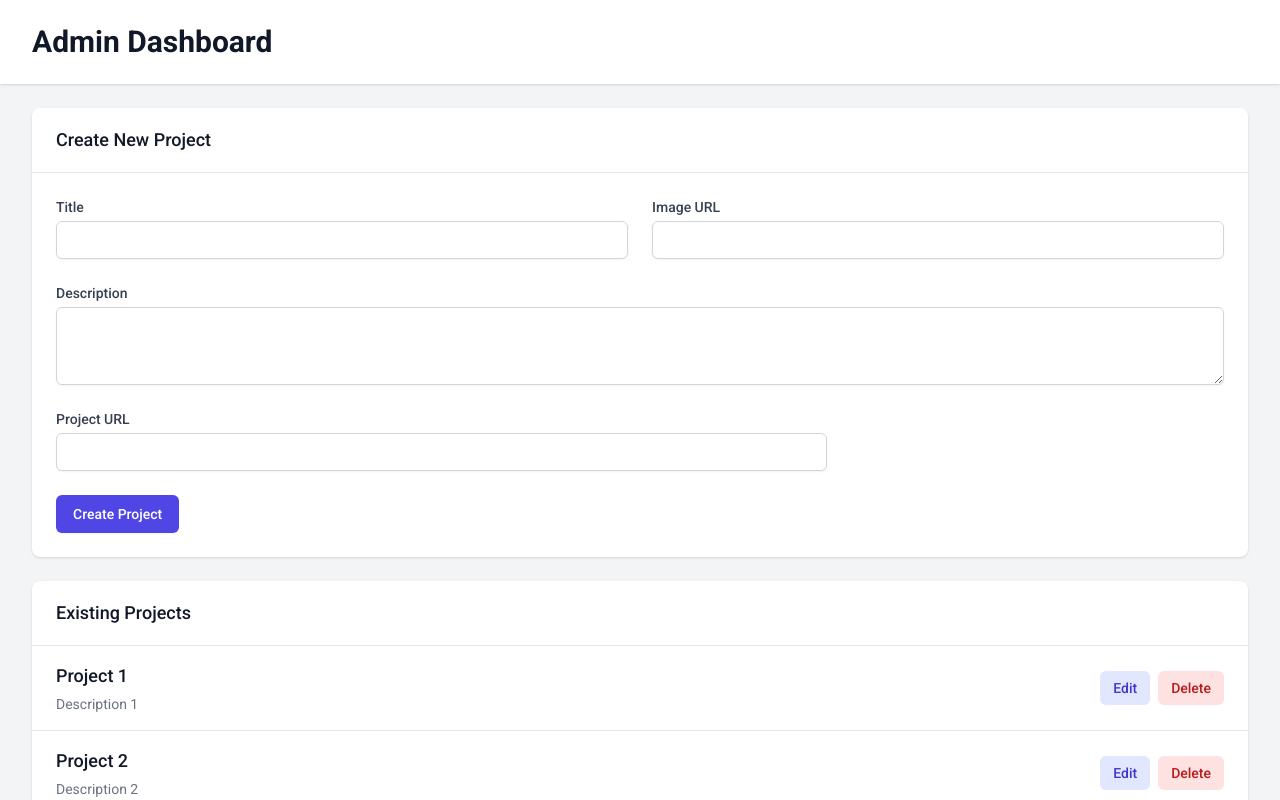
AdminDashboard › deletes a project
Expected: the heading "Project 1" is shown, [56,662,138,690]
Click the button "Delete" in the row of "Description 1": (1191,688) [1158,671,1224,705]
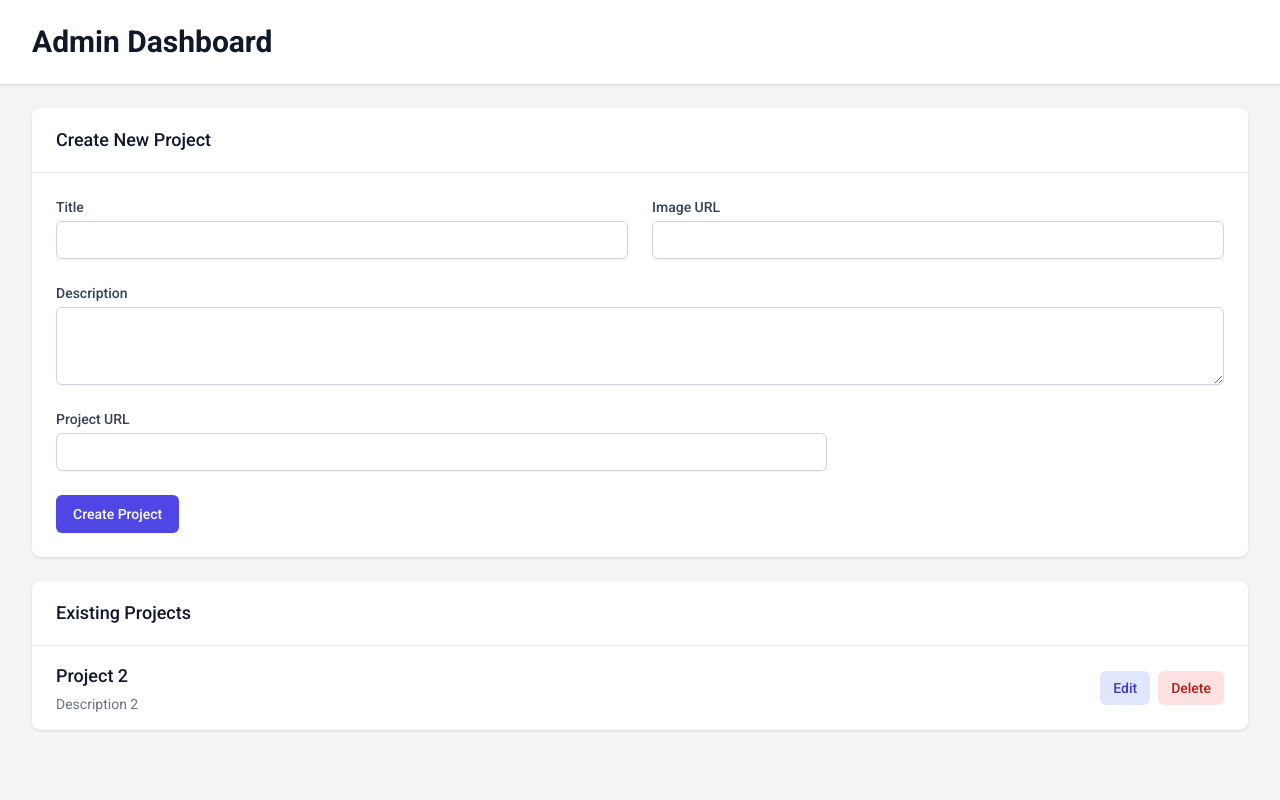
Result: the heading "Project 1" is gone
